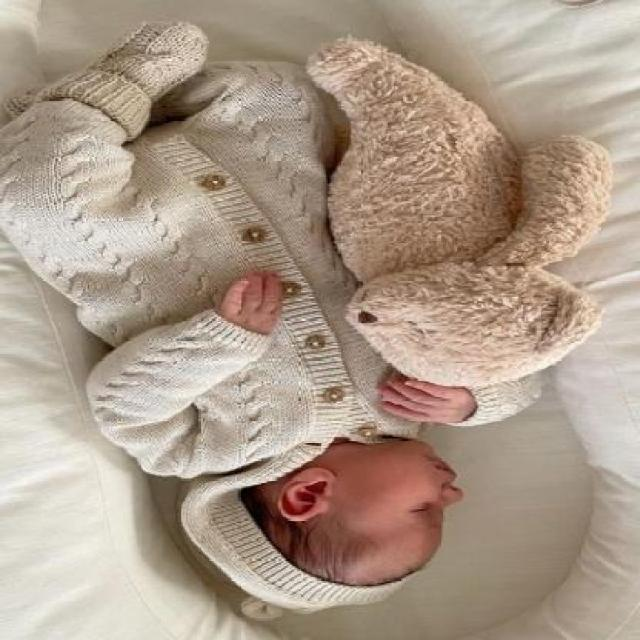child: (2, 32, 465, 616)
